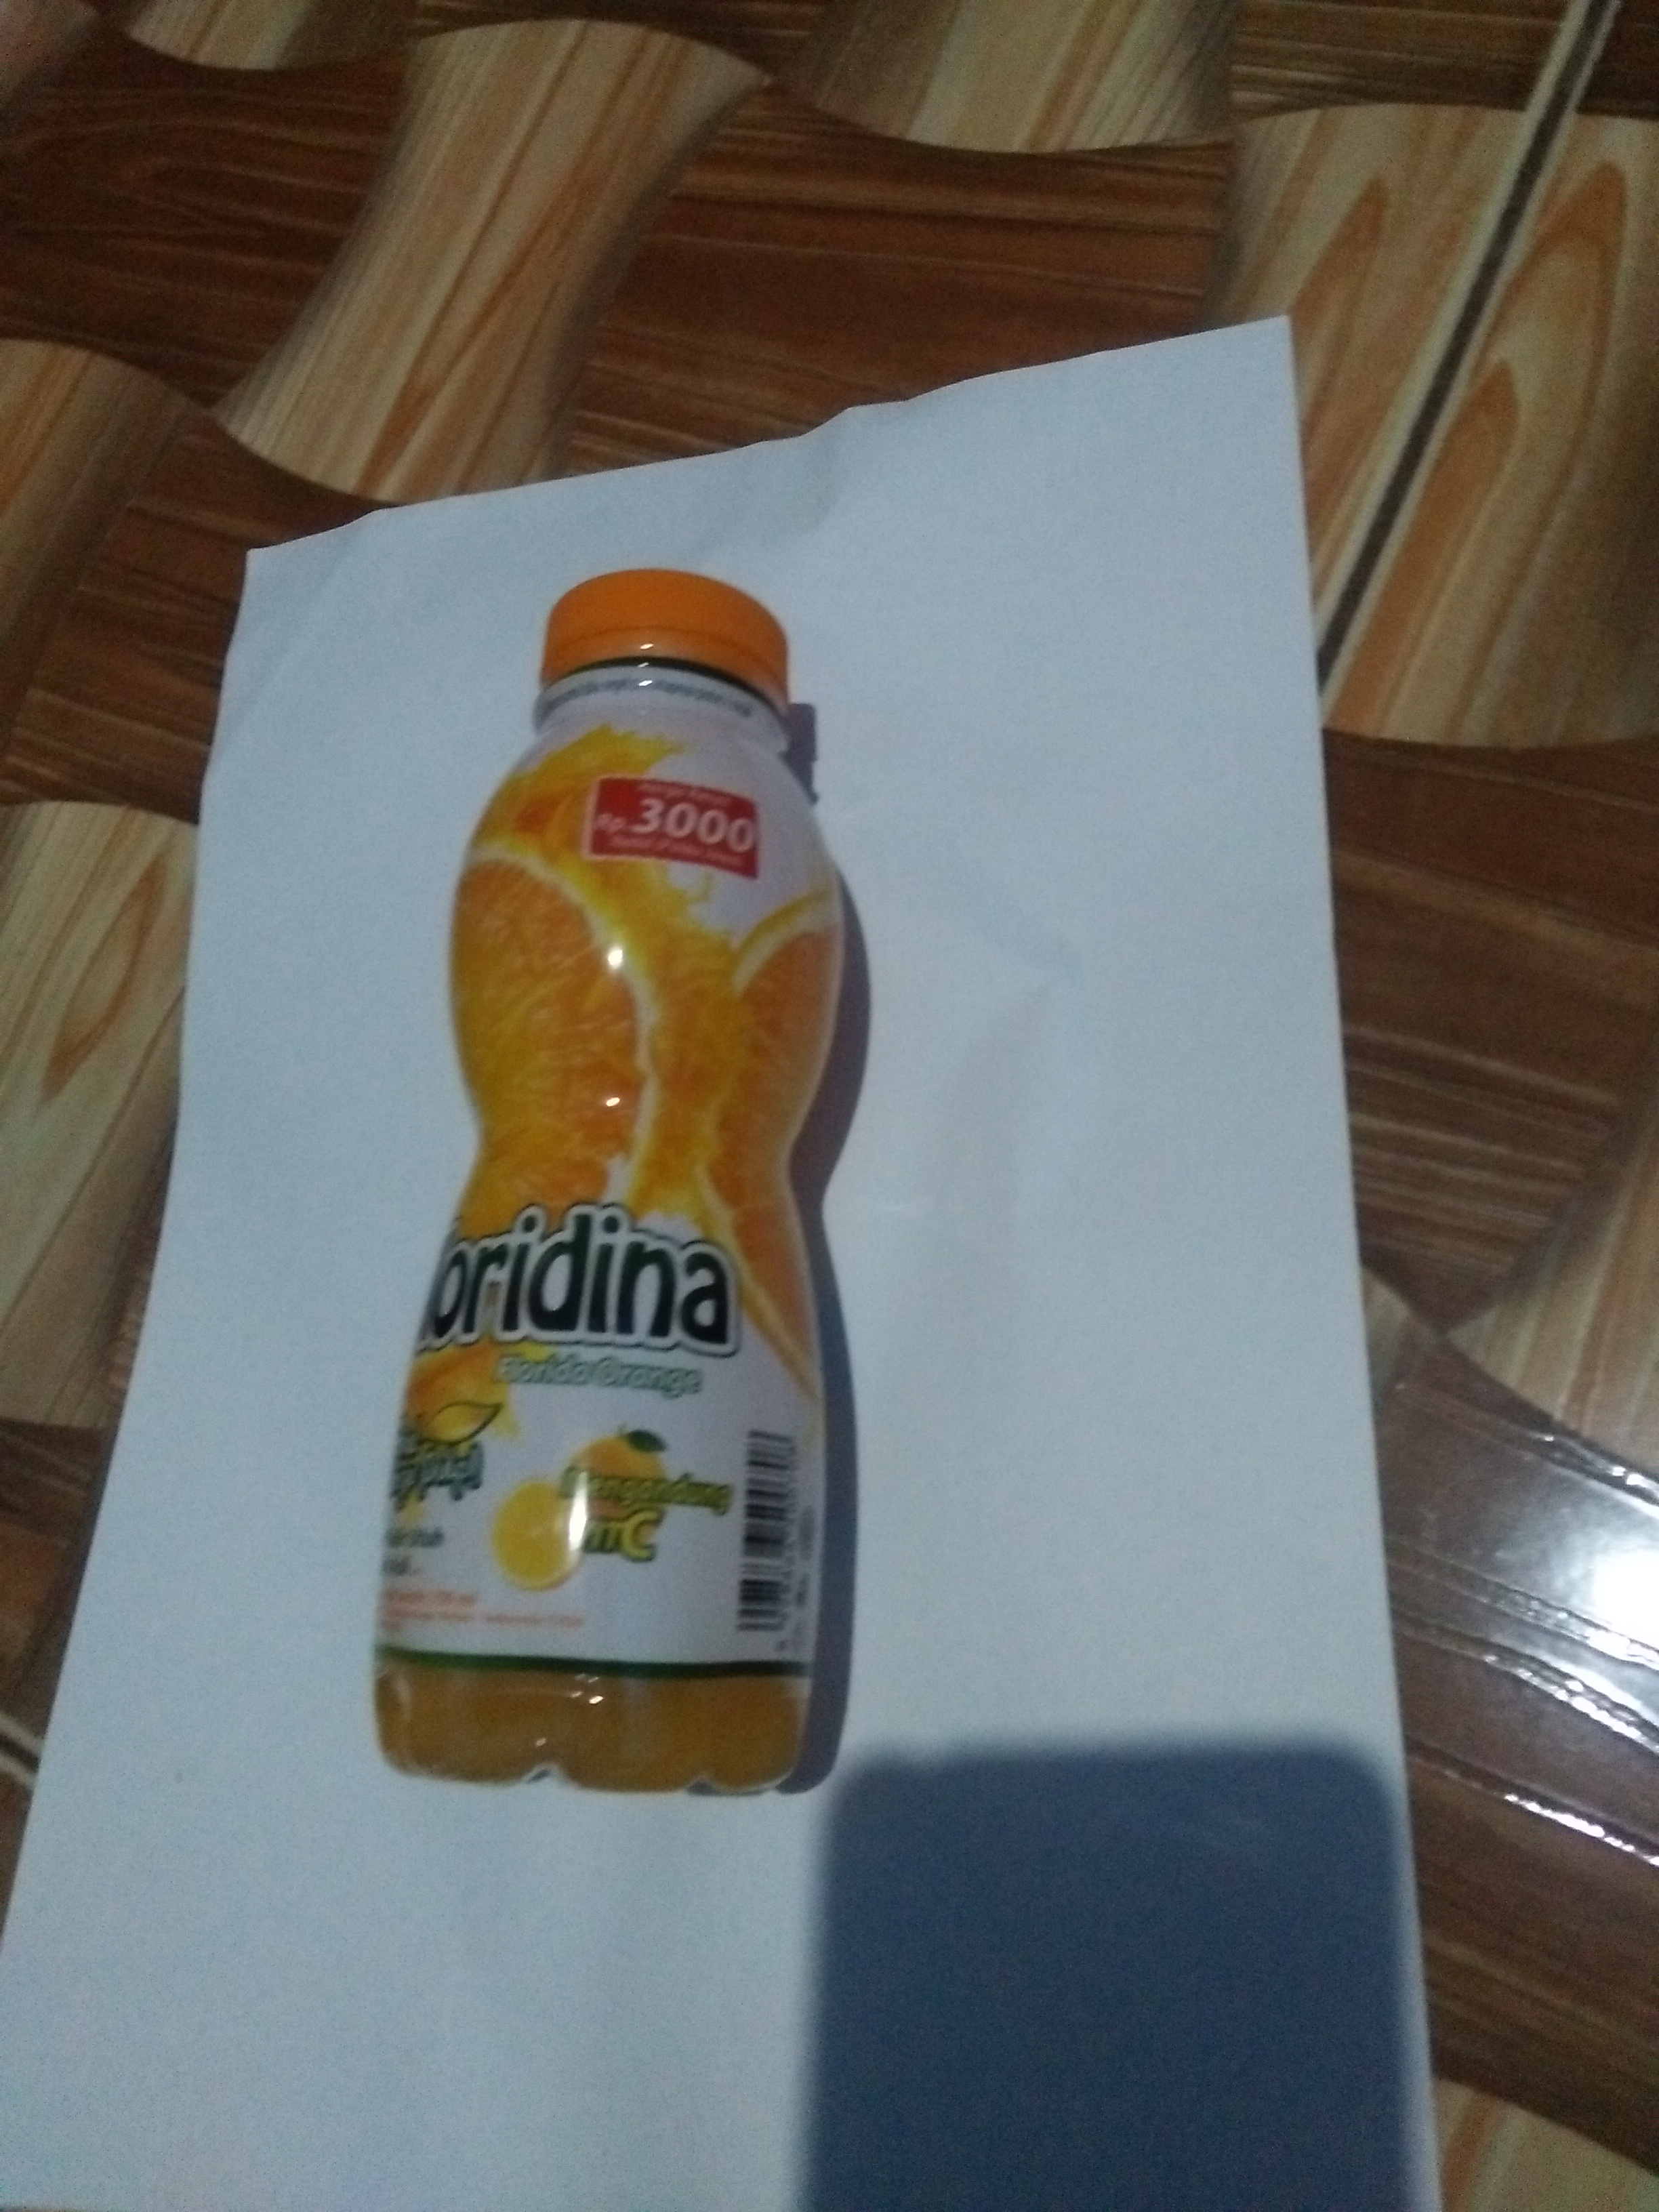Floridina: (343, 557, 871, 1815)
